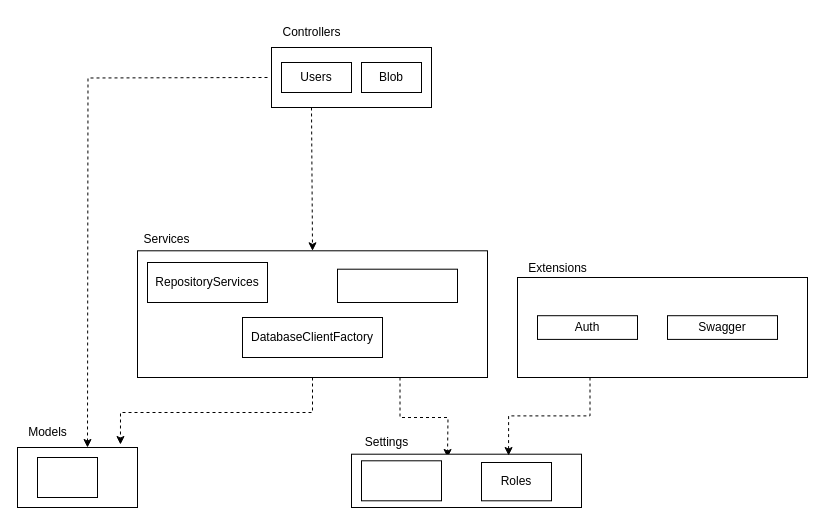
Image size: 825x525. Some labels were removed from this diagram. Here are the shapes that lost their labels. From the top down, the centre of each, then its label:
At point 397,285: "TokenHelper".
At point 67,477: "Entities".
At point 401,480: "IdentityData".
